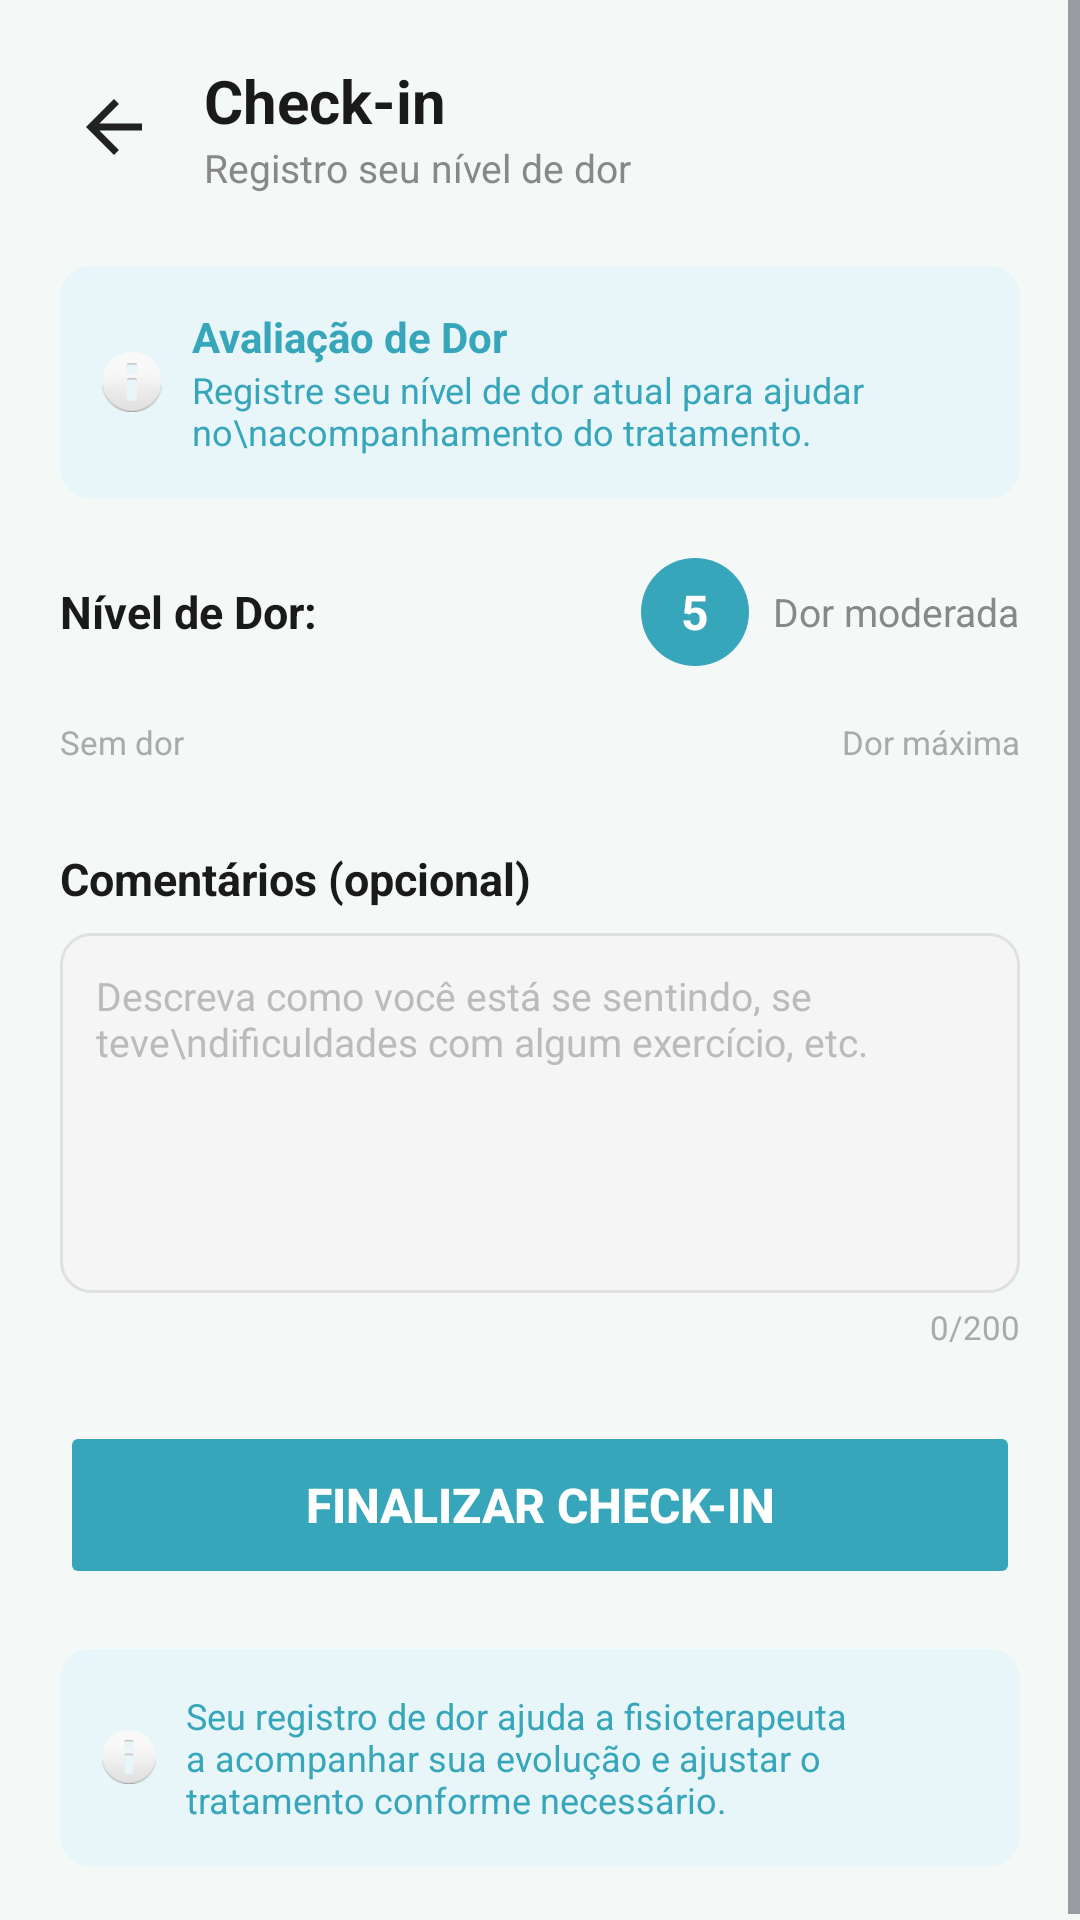

Point at icon controls on the screen. Image size 1080 × 1920, points as [x,y].
arrow back: [114,127]
info: [132,382], [129,1757]
